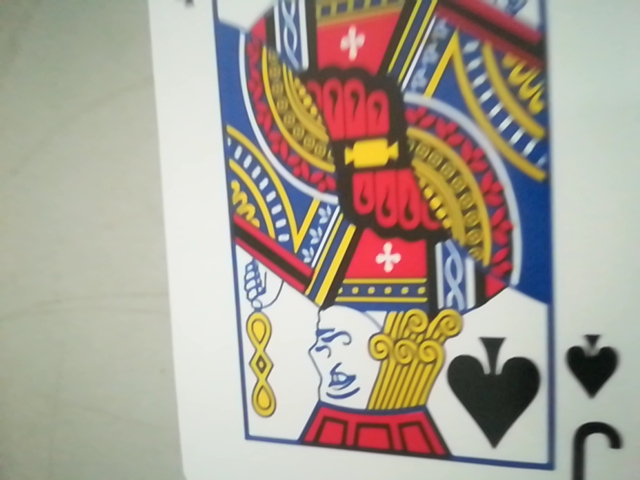ht j: (552, 327, 631, 480)
